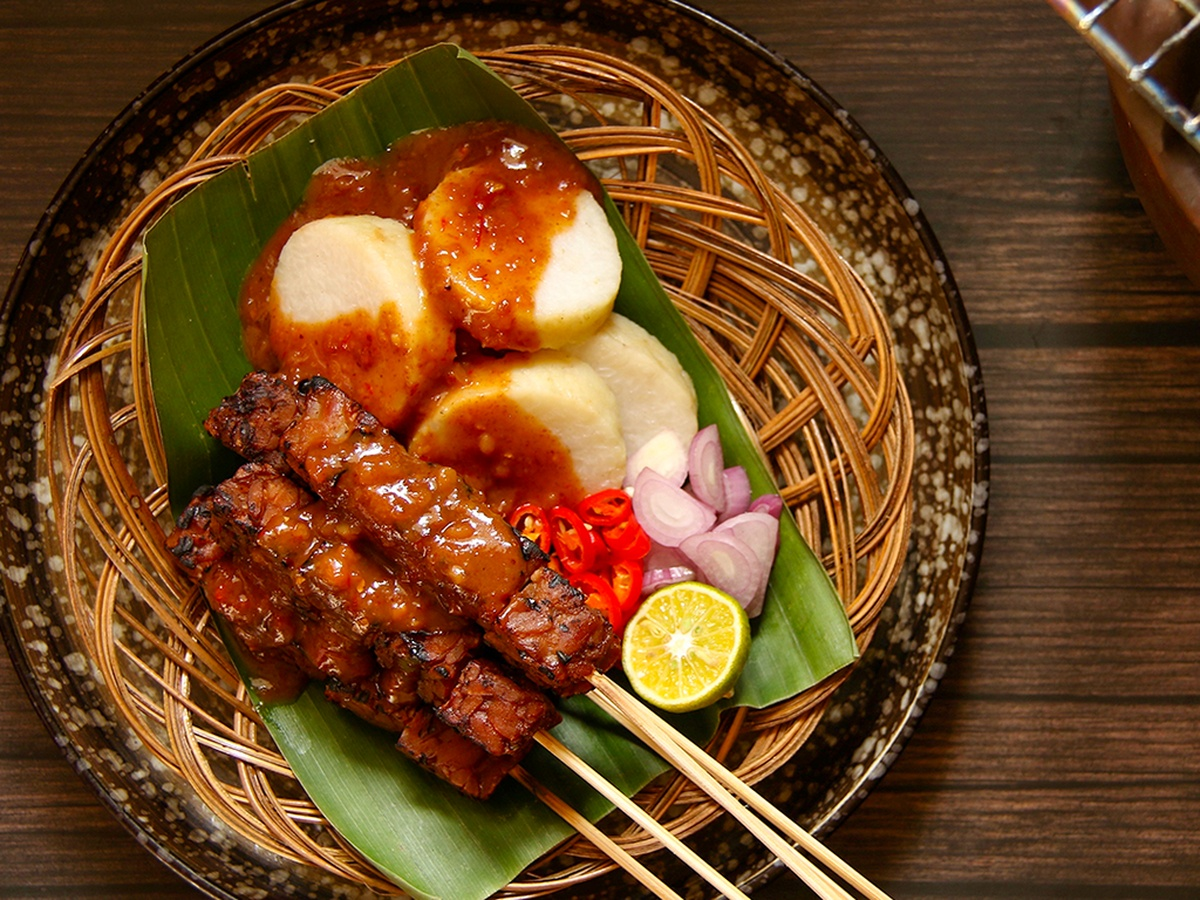sate: (177, 348, 626, 811)
